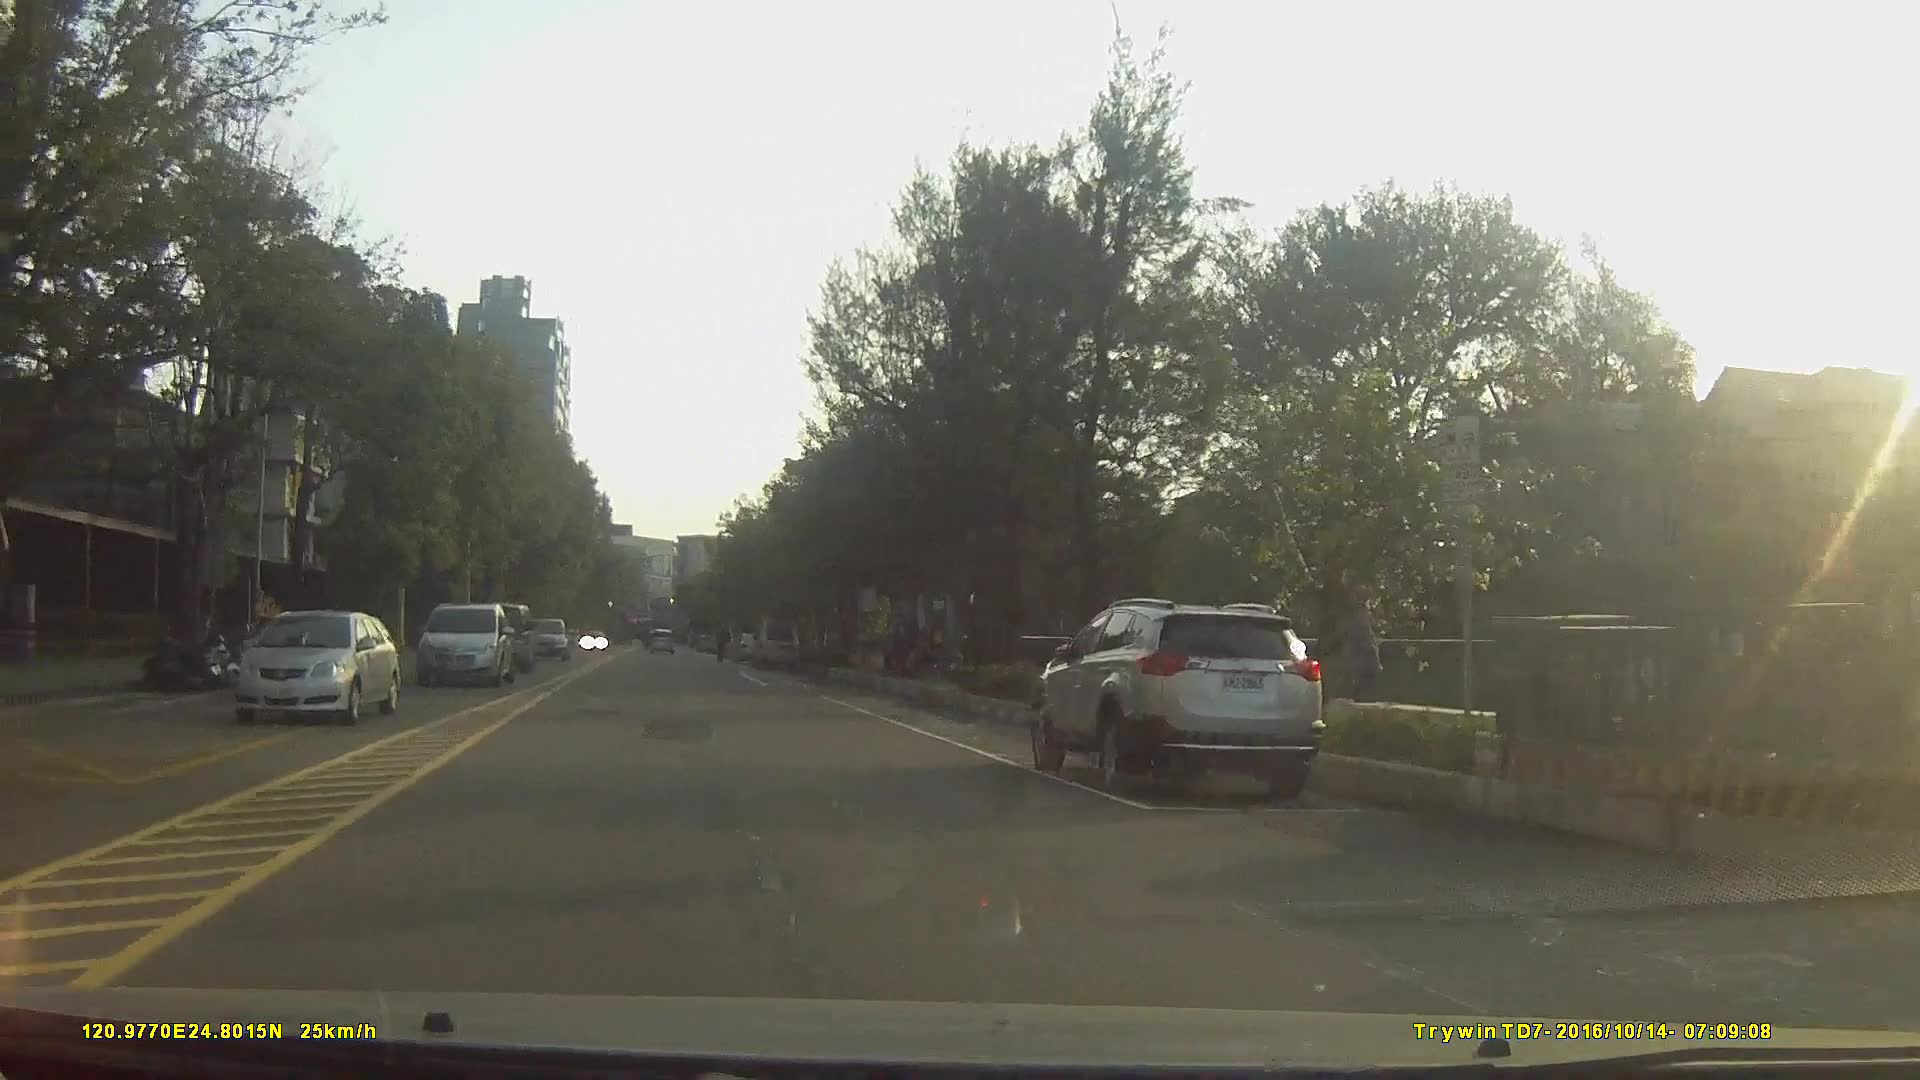vehicle: (1033, 597, 1323, 803), (229, 611, 400, 723), (418, 600, 516, 684), (749, 618, 802, 670), (522, 615, 571, 655), (731, 630, 766, 665), (647, 624, 676, 654)
